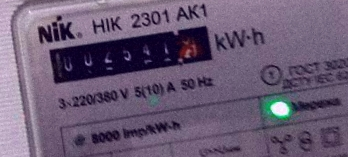0: (58, 50, 74, 72), (78, 45, 93, 67)
1: (157, 35, 171, 56)
2: (98, 43, 113, 65)
4: (138, 36, 153, 59)
5: (117, 39, 132, 63)
6: (180, 43, 193, 60)
screen: (36, 13, 224, 93)
